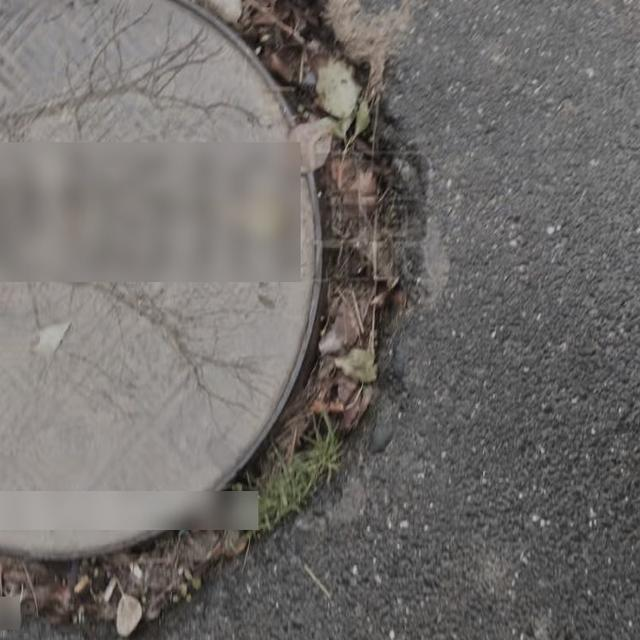circle: (0, 0, 426, 627)
